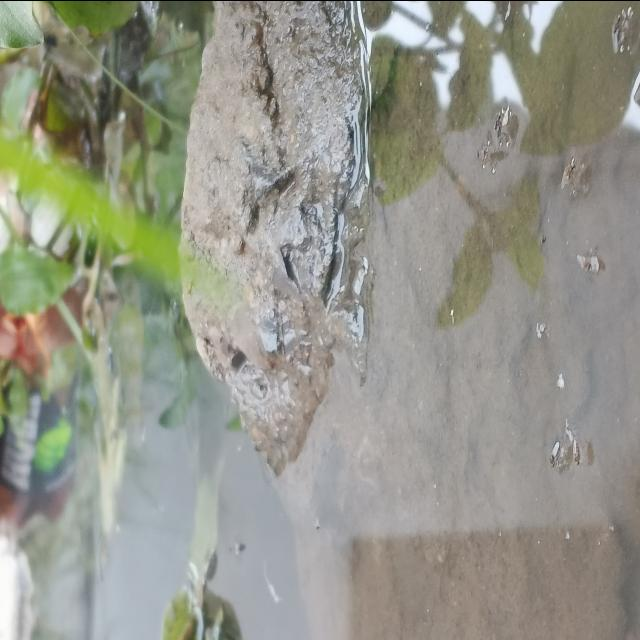Breeding Place: (0, 0, 352, 640), (351, 0, 640, 640)
